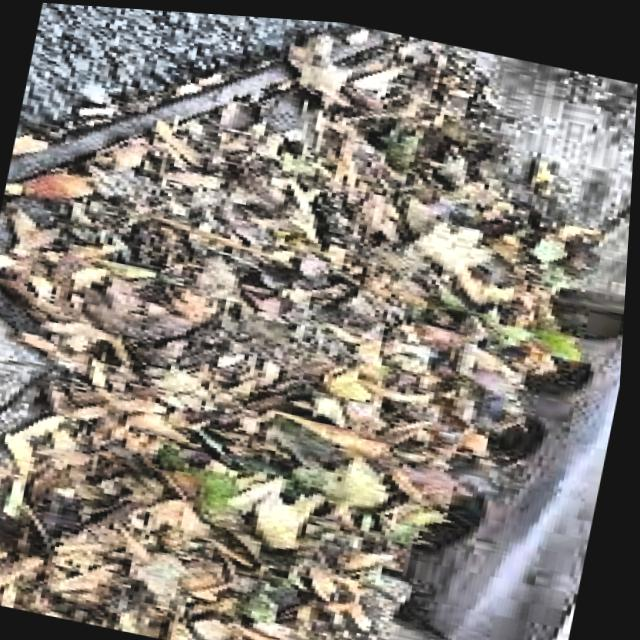Alligator Cracks: (0, 26, 607, 640)
